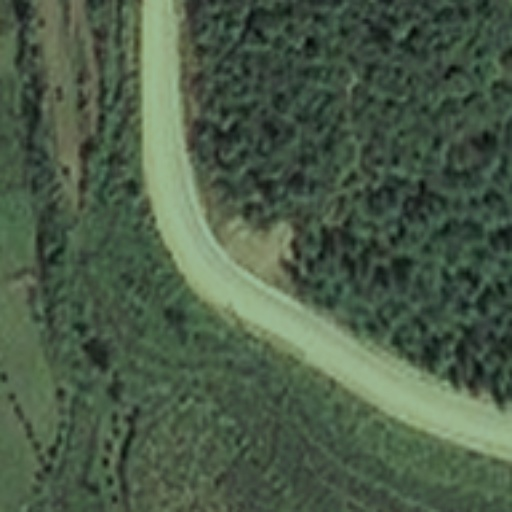landslide: (224, 215, 296, 280)
